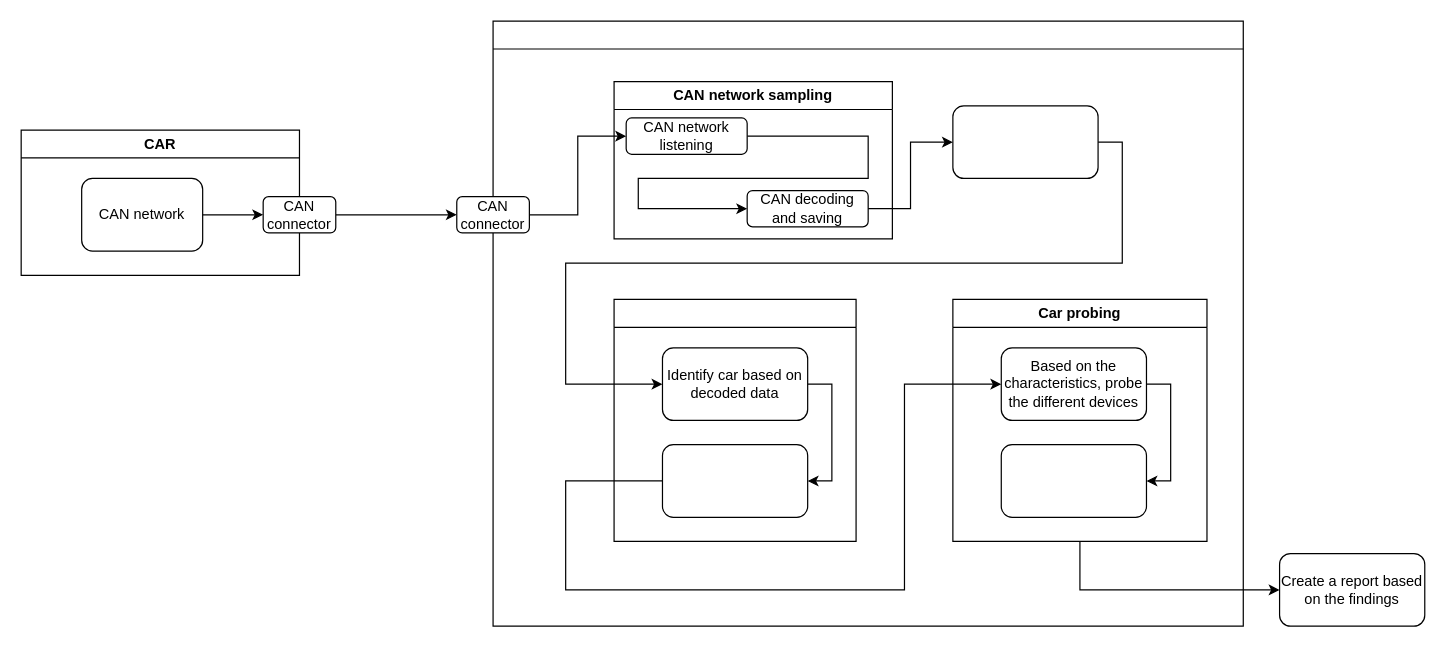
Some shapes in this 1446 by 647 pixel diagram are drawn without their labels. The box of each missing label's shape, as (x1, y1, x2, y2) in pixels:
CAN Analiser: (492, 20, 1243, 626)
Car Identification: (613, 298, 856, 541)
Collect and analyze responses.: (1000, 443, 1146, 517)
Gather the characteristics of the specific car: (661, 443, 808, 517)
Saved file: (952, 105, 1098, 178)
